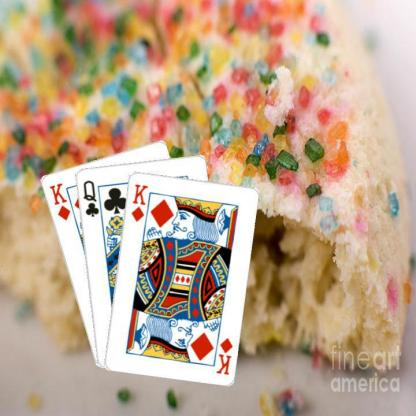KD: (46, 180, 72, 222), (128, 181, 149, 223), (213, 335, 234, 376)
QC: (80, 177, 100, 218)
